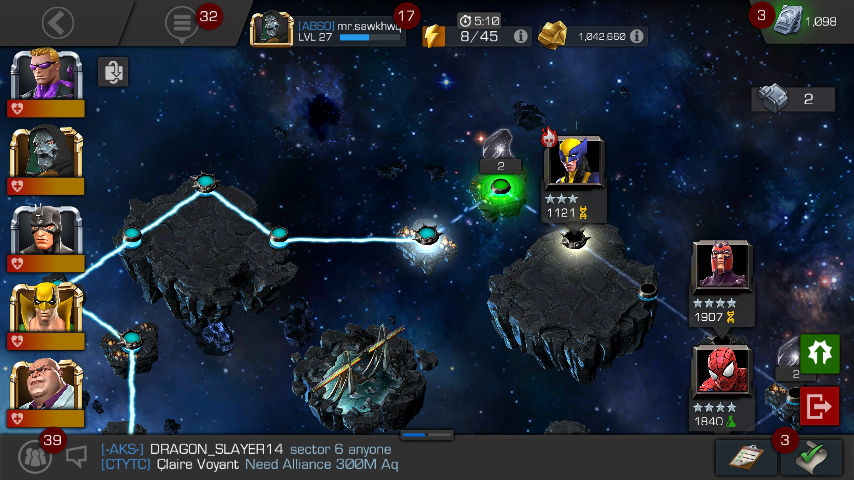green: (491, 179, 511, 195)
